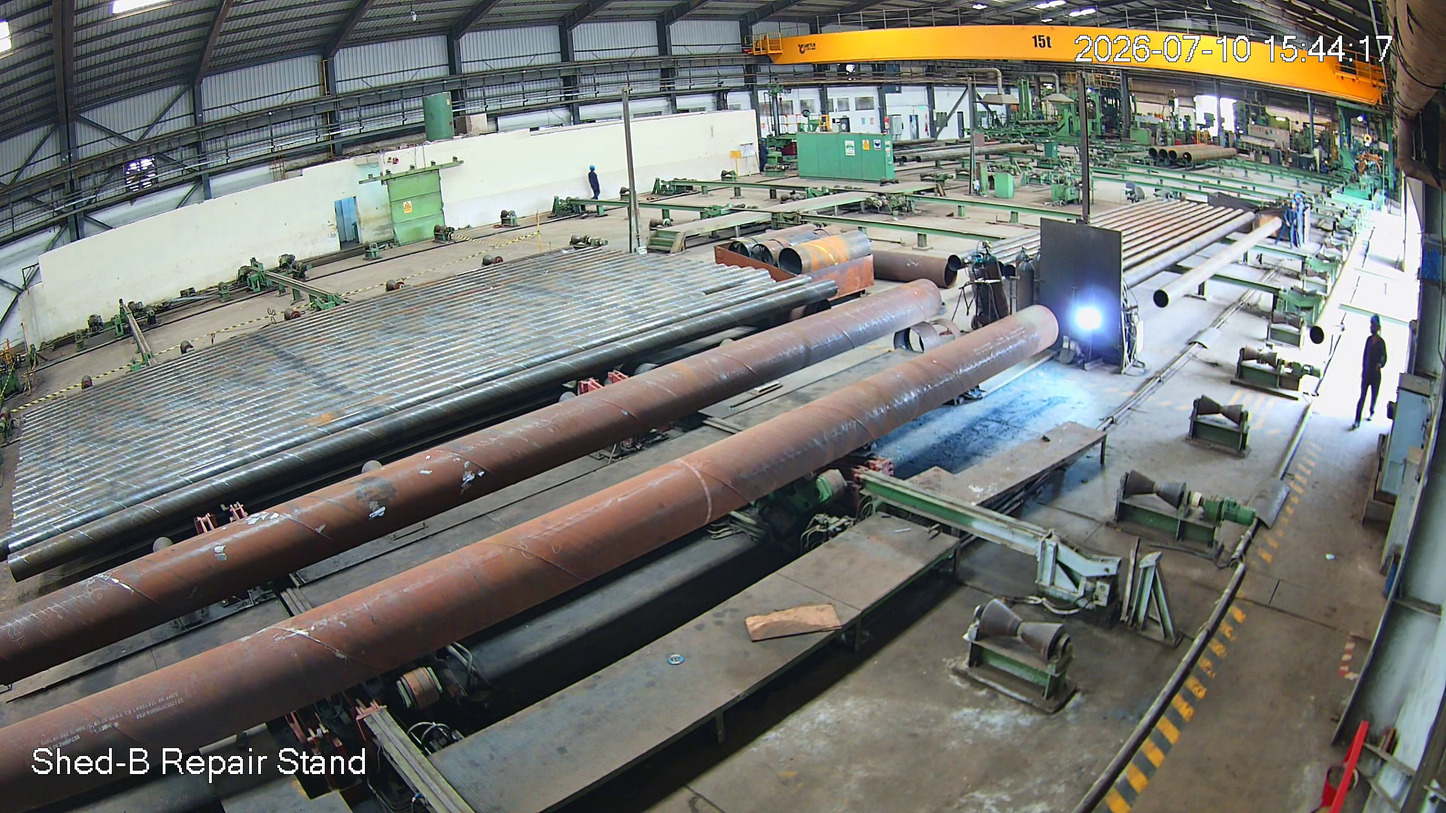Helmet: (1360, 303, 1387, 343)
Person: (1360, 308, 1394, 432)
